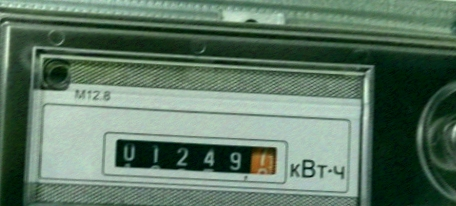0: (121, 142, 136, 163)
1: (148, 143, 161, 165)
2: (173, 146, 190, 168)
4: (202, 147, 216, 168)
7: (256, 147, 270, 168)
9: (228, 150, 242, 172)
screen: (98, 128, 292, 188)
